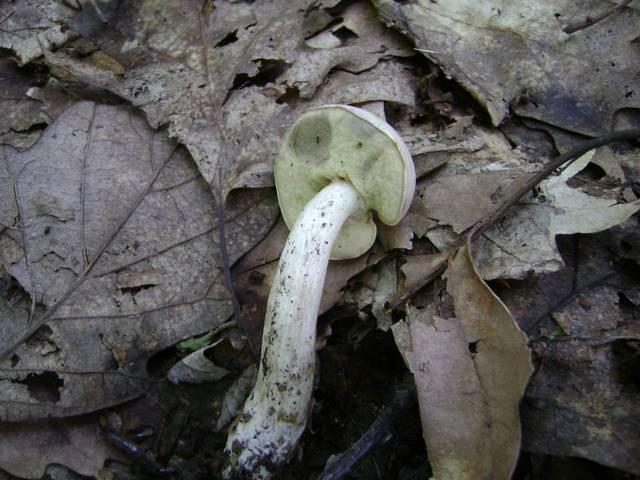Edible Mushroom: (219, 102, 417, 478)
